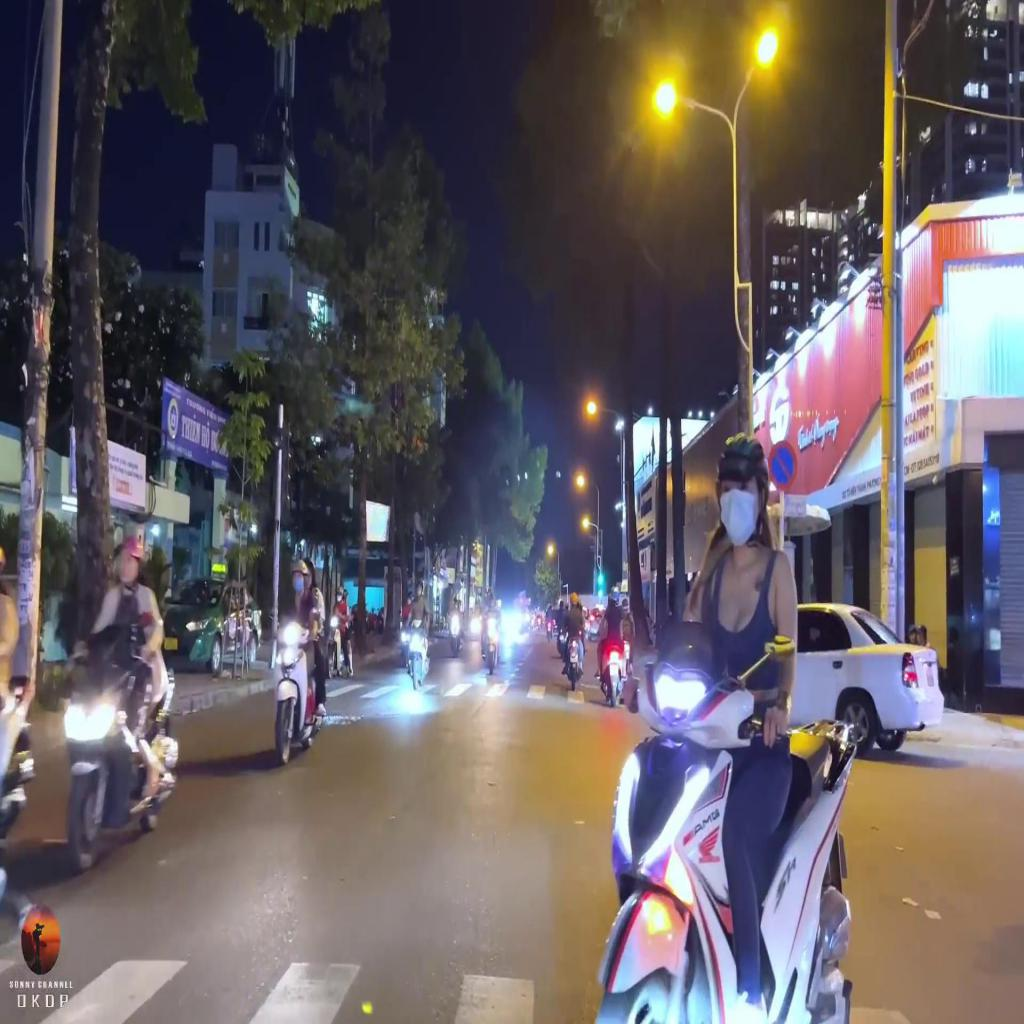cam_do_xe: (768, 440, 798, 491)
